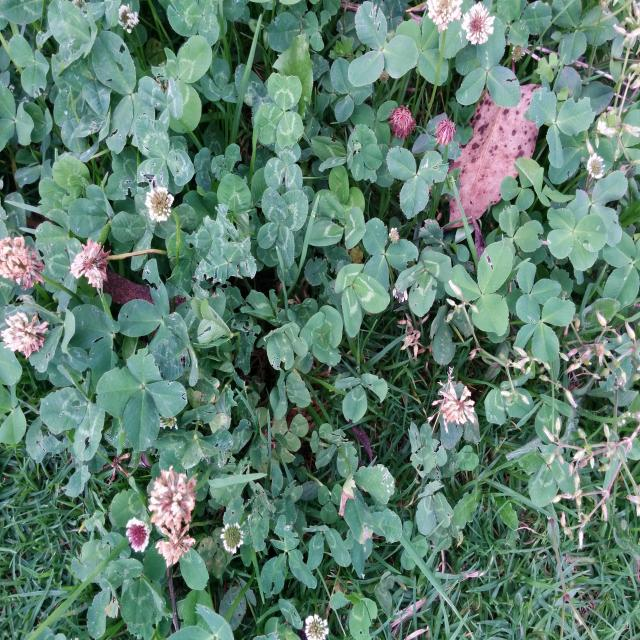Four Leaf Clover: (96, 348, 187, 451)
